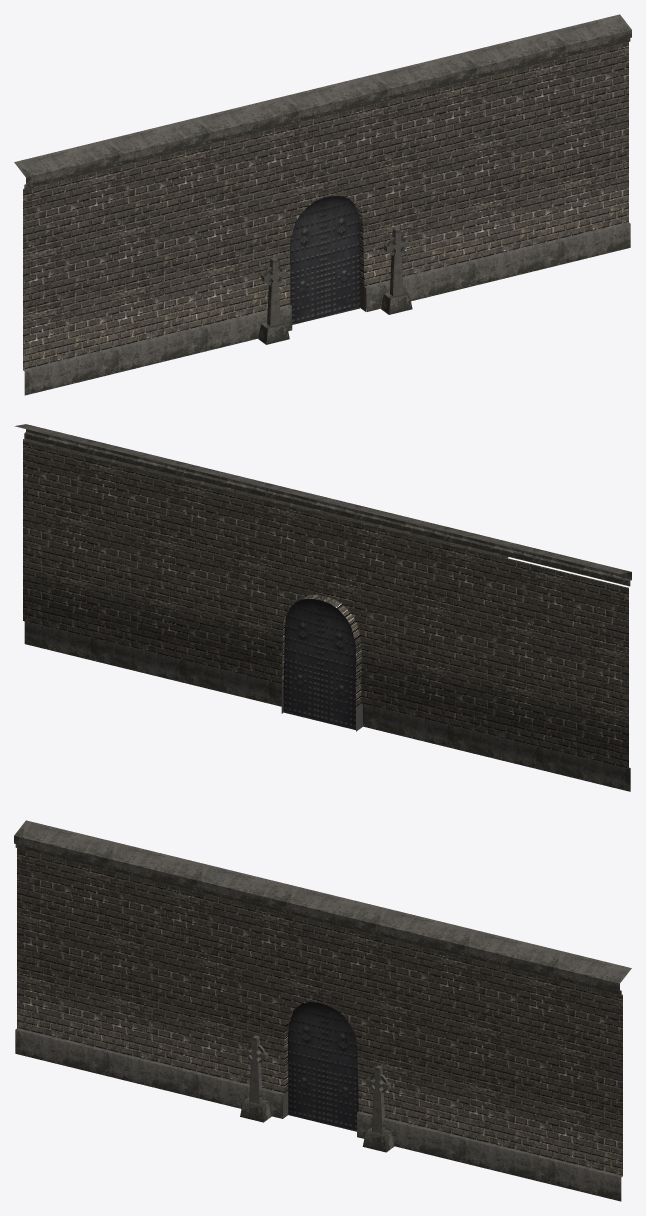
Rendered from backWallDoor.FBX.
3 renders of one model, top to bottom at view 1: azimuth 30°, elevation 25°; view 2: azimuth 150°, elevation 25°; view 3: azimuth 330°, elevation 25°, orthographic.
Visible parts, largest first — view 1: backWallDoor; view 2: backWallDoor; view 3: backWallDoor.
Boxes of the visible parts, x1=… form: backWallDoor: x1=14, y1=14, x2=631, y2=395; backWallDoor: x1=14, y1=424, x2=631, y2=791; backWallDoor: x1=14, y1=820, x2=631, y2=1201.
Size of the model in its own units: 2457 by 874 by 134.
Materials: 3 (3 with a texture image).
